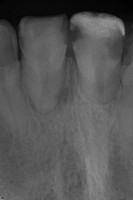Furcation Involvement: (57, 85, 72, 105)
